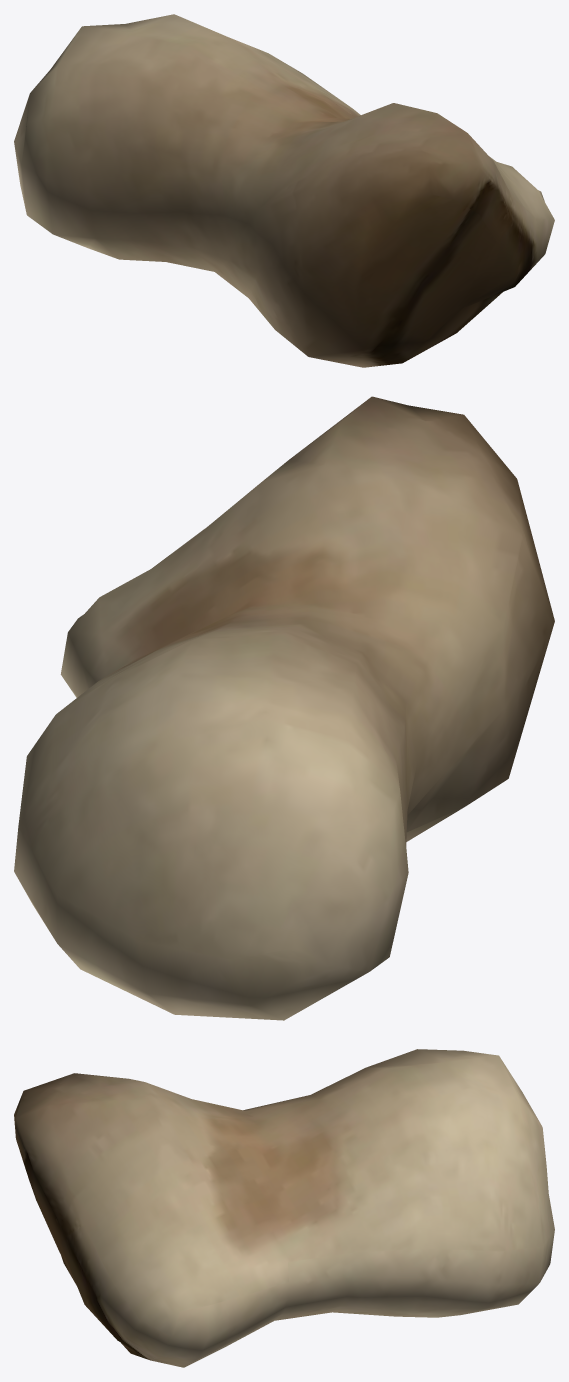
The model's file is Accessory_Carpal.glb.
The picture shows the model from 3 angles, top to bottom: view 1: azimuth 30°, elevation 25°; view 2: azimuth 150°, elevation 25°; view 3: azimuth 270°, elevation 25°; orthographic projection. The views are drawn at different scales.
Visible parts, largest first — view 1: Accessory_Carpal_Left1:Group58680; view 2: Accessory_Carpal_Left1:Group58680; view 3: Accessory_Carpal_Left1:Group58680.
Part boxes in pixels (x1,y1,x2,y2): Accessory_Carpal_Left1:Group58680: [14, 14, 554, 367]; Accessory_Carpal_Left1:Group58680: [14, 396, 554, 1020]; Accessory_Carpal_Left1:Group58680: [14, 1049, 554, 1367].
Size of the model in its own units: 13.41 by 8.81 by 17.11.
Materials: 1 (1 with a texture image).
